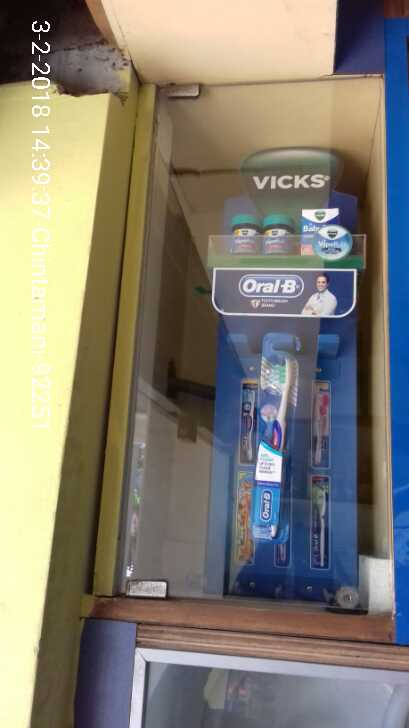pharmacy: (247, 332, 305, 545), (227, 212, 298, 264)
